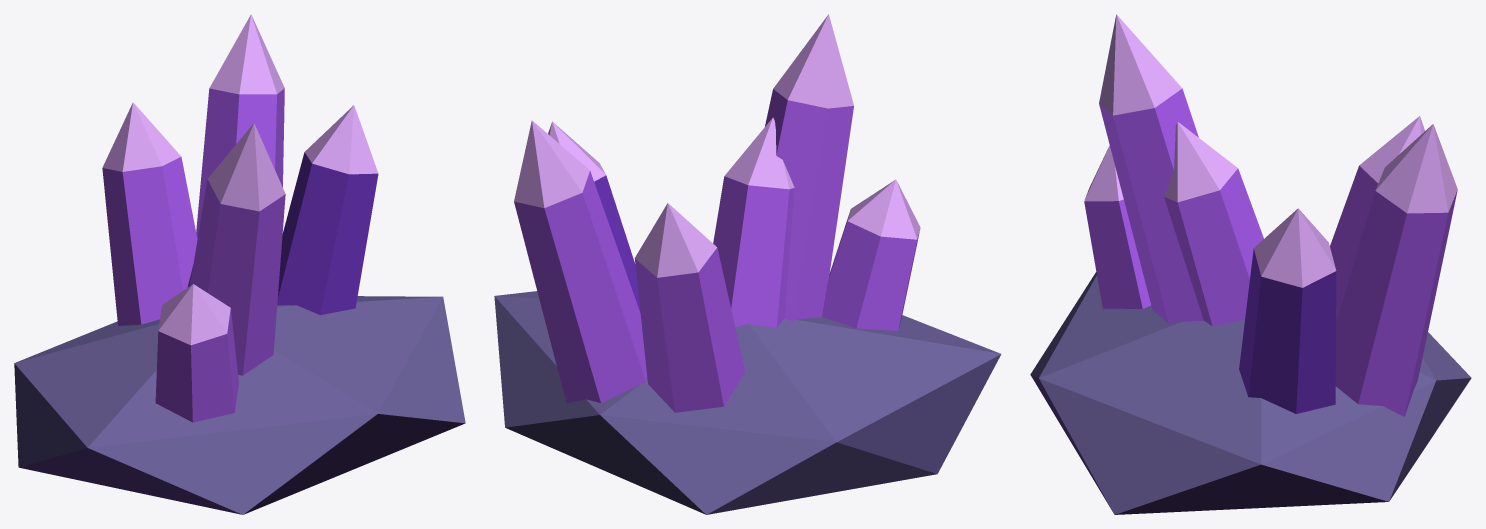
Rendered from Energy_Crystal_Cluster_A.obj.
3 views of the same model, side by side, from view 1: azimuth 30°, elevation 25°; view 2: azimuth 150°, elevation 25°; view 3: azimuth 270°, elevation 25° (orthographic). The views are drawn at different scales.
Parts seen in each view (by area): view 1: Energy_Crystal_Cluster_A; view 2: Energy_Crystal_Cluster_A; view 3: Energy_Crystal_Cluster_A.
Boxes of the visible parts, x1,y1,x2,y2 form: Energy_Crystal_Cluster_A: (14,14,465,514); Energy_Crystal_Cluster_A: (494,14,1001,514); Energy_Crystal_Cluster_A: (1030,14,1471,514).
Size of the model in its own units: 2.09 by 1.66 by 1.71.
1 material, 1 textured.
